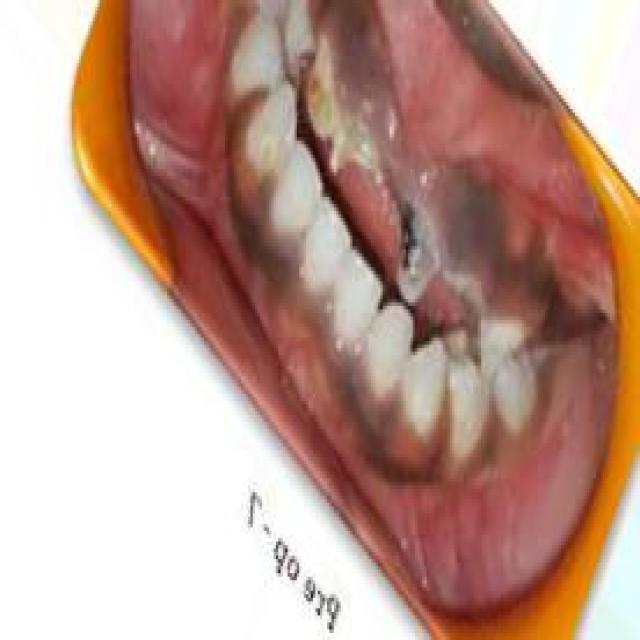caries: (382, 196, 443, 303), (302, 46, 344, 142), (325, 120, 382, 187)
